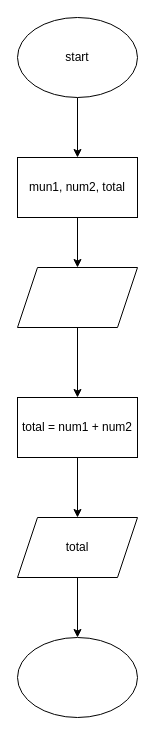
The diagram is 155 pixels wide and 735 high, and some of its shapes have lost their labels. Each missing label, with the centre of its shape:
"end" goes at pixel 77 677.
"num1, num2" goes at pixel 77 297.
